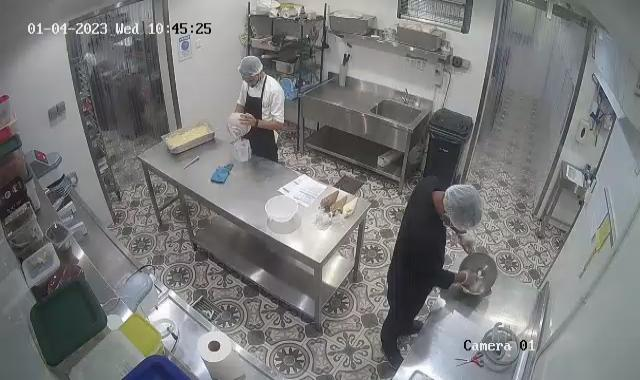hairnet: (442, 179, 485, 233), (235, 55, 266, 84)
